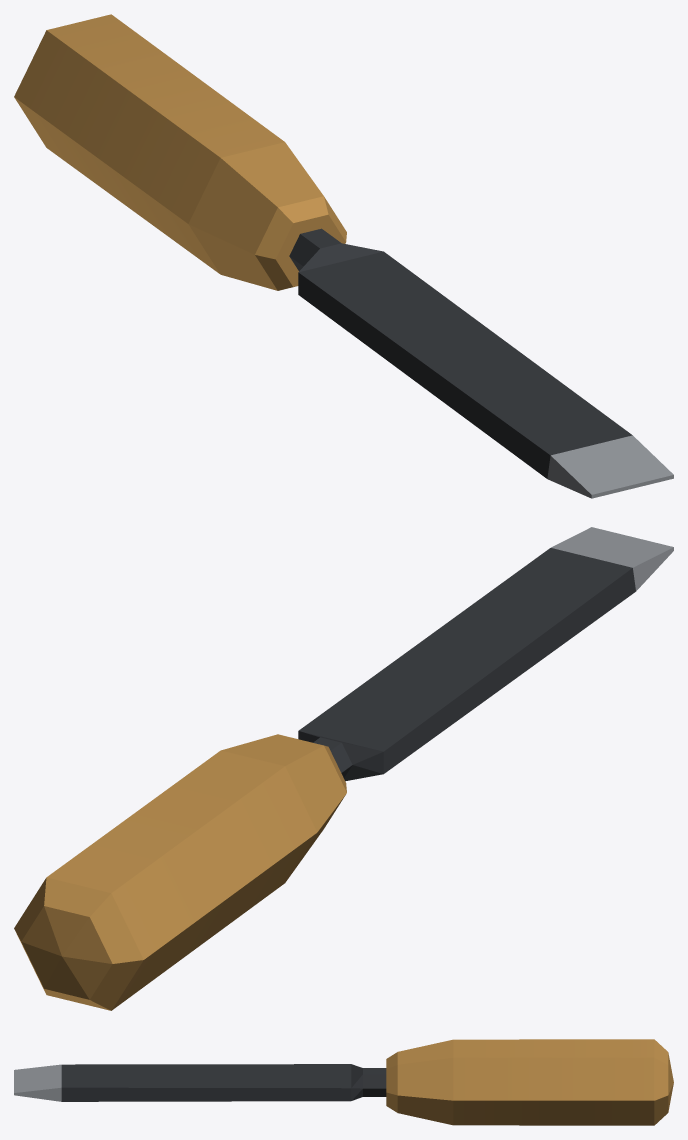
Rendered from SM_Tool_Chisel_01.fbx.
3 views of the same model, one above another, from view 1: azimuth 30°, elevation 25°; view 2: azimuth 150°, elevation 25°; view 3: azimuth 270°, elevation 25° (orthographic). The views are drawn at different scales.
Visible parts, largest first — view 1: SM_Tool_Chisel_01; view 2: SM_Tool_Chisel_01; view 3: SM_Tool_Chisel_01.
Part boxes in pixels (x1=…): SM_Tool_Chisel_01: x1=14, y1=14, x2=673, y2=498; SM_Tool_Chisel_01: x1=14, y1=527, x2=673, y2=1010; SM_Tool_Chisel_01: x1=14, y1=1039, x2=673, y2=1125.
Size of the model in its own units: 5.16 by 4.47 by 39.31.
